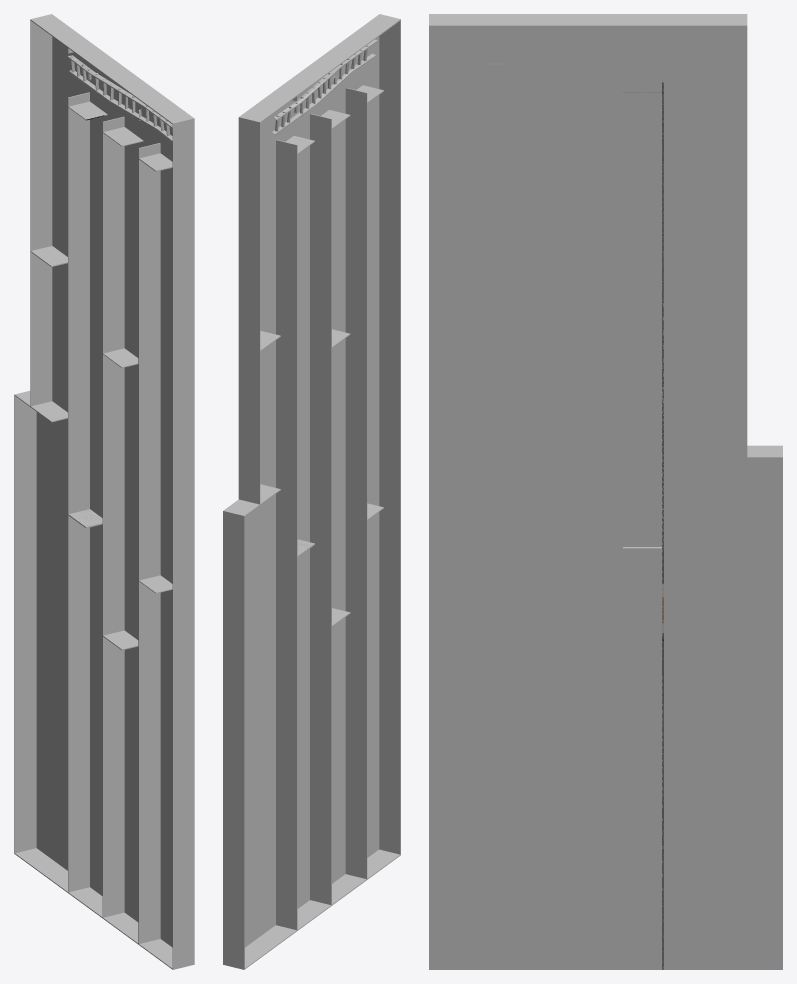
The model's file is Bunker.dae.
The picture shows the model from 3 angles, left to right: view 1: azimuth 30°, elevation 25°; view 2: azimuth 150°, elevation 25°; view 3: azimuth 270°, elevation 25°; orthographic projection. The views are drawn at different scales.
Parts seen in each view (by area): view 1: SketchUp (×4), Ladder (×2); view 2: SketchUp (×8), Ladder (×2); view 3: SketchUp (×4).
Part boxes in pixels (left/top/right/bottom): SketchUp (×4): left=14, top=14, right=194, bottom=969; Ladder (×2): left=67, top=55, right=172, bottom=141; SketchUp (×8): left=223, top=14, right=400, bottom=969; Ladder (×2): left=272, top=39, right=377, bottom=134; SketchUp (×4): left=429, top=14, right=782, bottom=969.
Size of the model in its own units: 46.13 by 582 by 1714.
